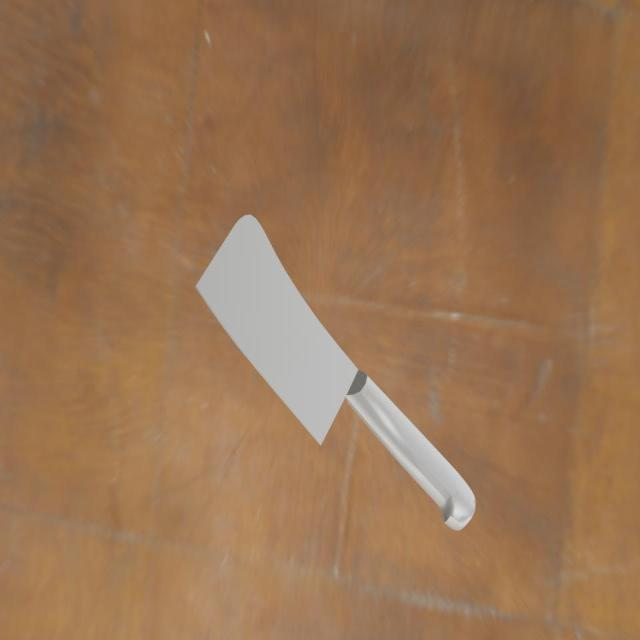knife: (346, 372, 483, 540)
